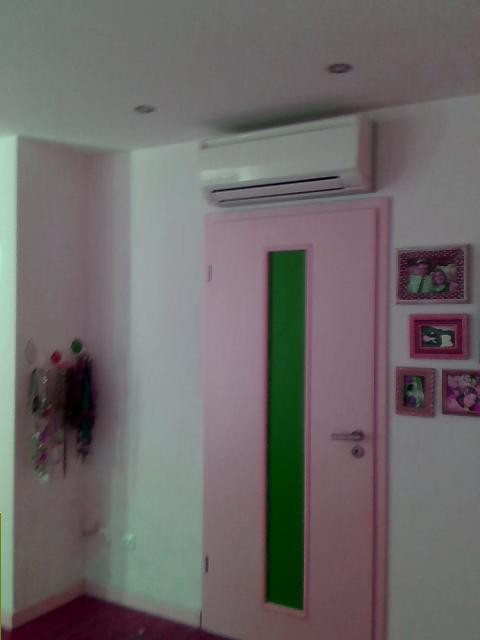closed_door: (196, 195, 396, 638)
